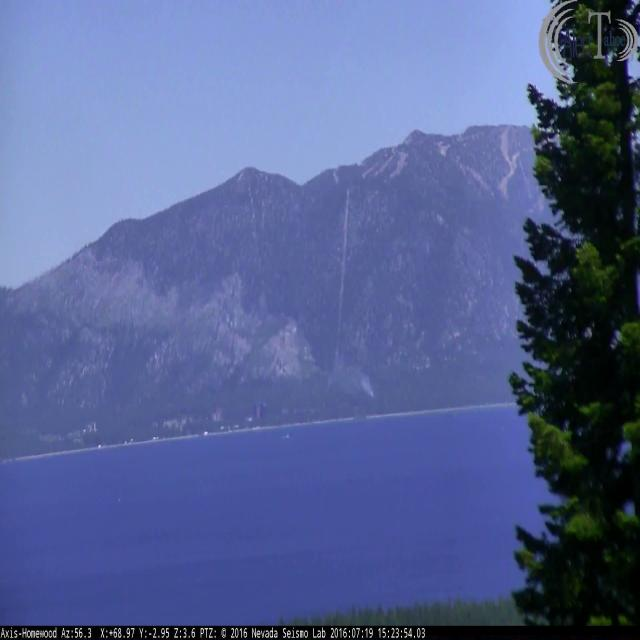smoke: (342, 357, 372, 399)
